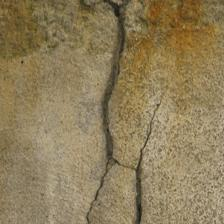Crack: (0, 0, 107, 139), (31, 30, 100, 141), (87, 59, 134, 101)
